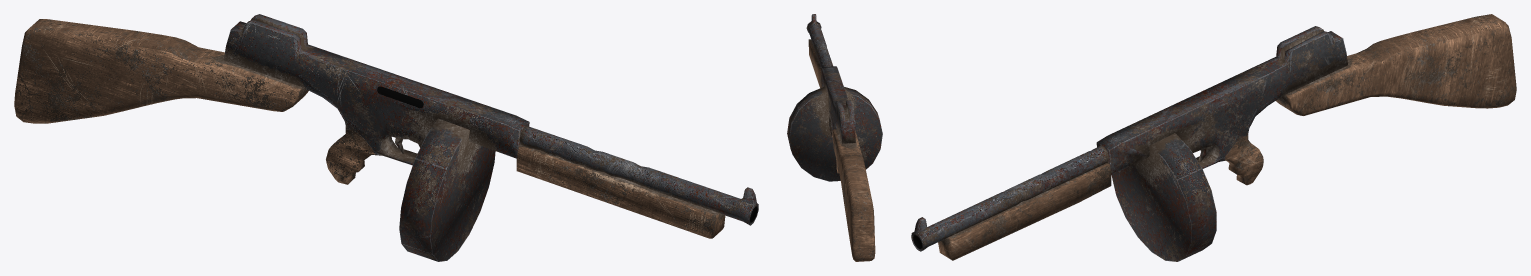
The model's file is Anim_disparar_ametralladora_objetos.0030.obj.
3 renders of one model, left to right at view 1: azimuth 30°, elevation 25°; view 2: azimuth 150°, elevation 25°; view 3: azimuth 270°, elevation 25°, orthographic. The views are drawn at different scales.
Visible parts, largest first — view 1: Ametralladora1; view 2: Ametralladora1; view 3: Ametralladora1.
Part boxes in pixels (x1,y1,x2,y2): Ametralladora1: [14, 14, 758, 261]; Ametralladora1: [787, 14, 882, 261]; Ametralladora1: [911, 14, 1516, 261].
Size of the model in its own units: 3.73 by 1.66 by 5.06.
Materials: 1 (1 with a texture image).
